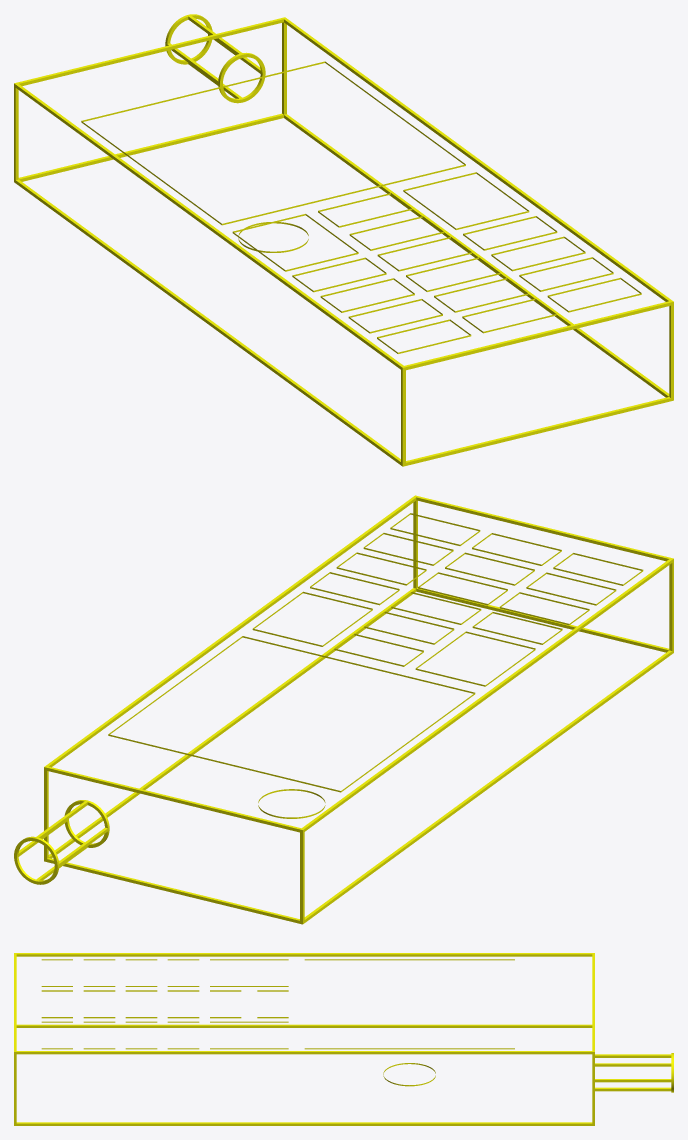
Rendered from phoneAllOutlines.obj.
3 renders of one model, top to bottom at view 1: azimuth 30°, elevation 25°; view 2: azimuth 150°, elevation 25°; view 3: azimuth 270°, elevation 25°, orthographic. The views are drawn at different scales.
Visible parts, largest first — view 1: object_1, object_20, object_14; view 2: object_1, object_20, object_14; view 3: object_1, object_20, object_14, object_15.
Part boxes in pixels (x1,y1,x2,y2): object_1: (14, 17, 673, 466); object_20: (165, 14, 265, 103); object_14: (81, 61, 465, 225); object_1: (44, 495, 673, 924); object_20: (14, 800, 109, 884); object_14: (108, 636, 475, 792); object_1: (14, 953, 594, 1125); object_20: (595, 1053, 673, 1092); object_14: (304, 959, 514, 1049); object_15: (210, 1021, 288, 1049).
Bounding box in the file's own units: 44.5 × 15.5 × 126.
